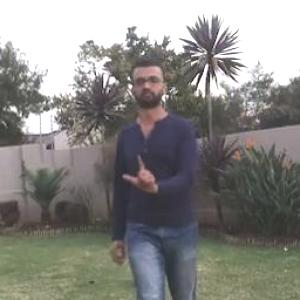land_hand: (122, 149, 163, 194)
